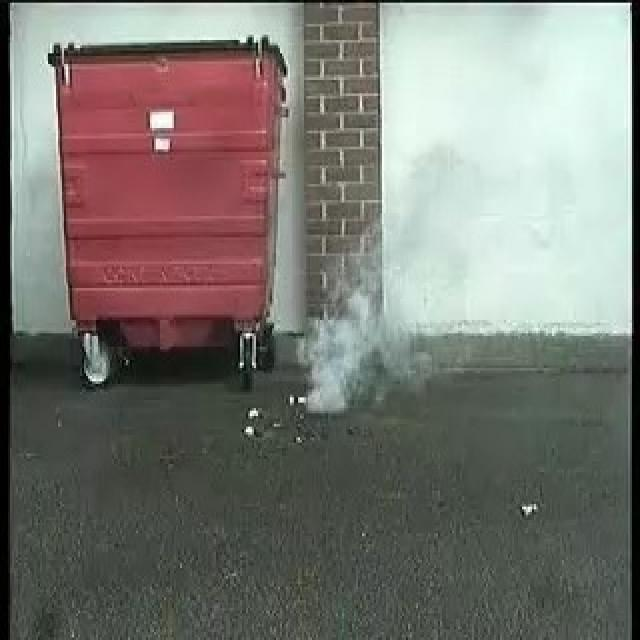smoke: (292, 222, 412, 418)
